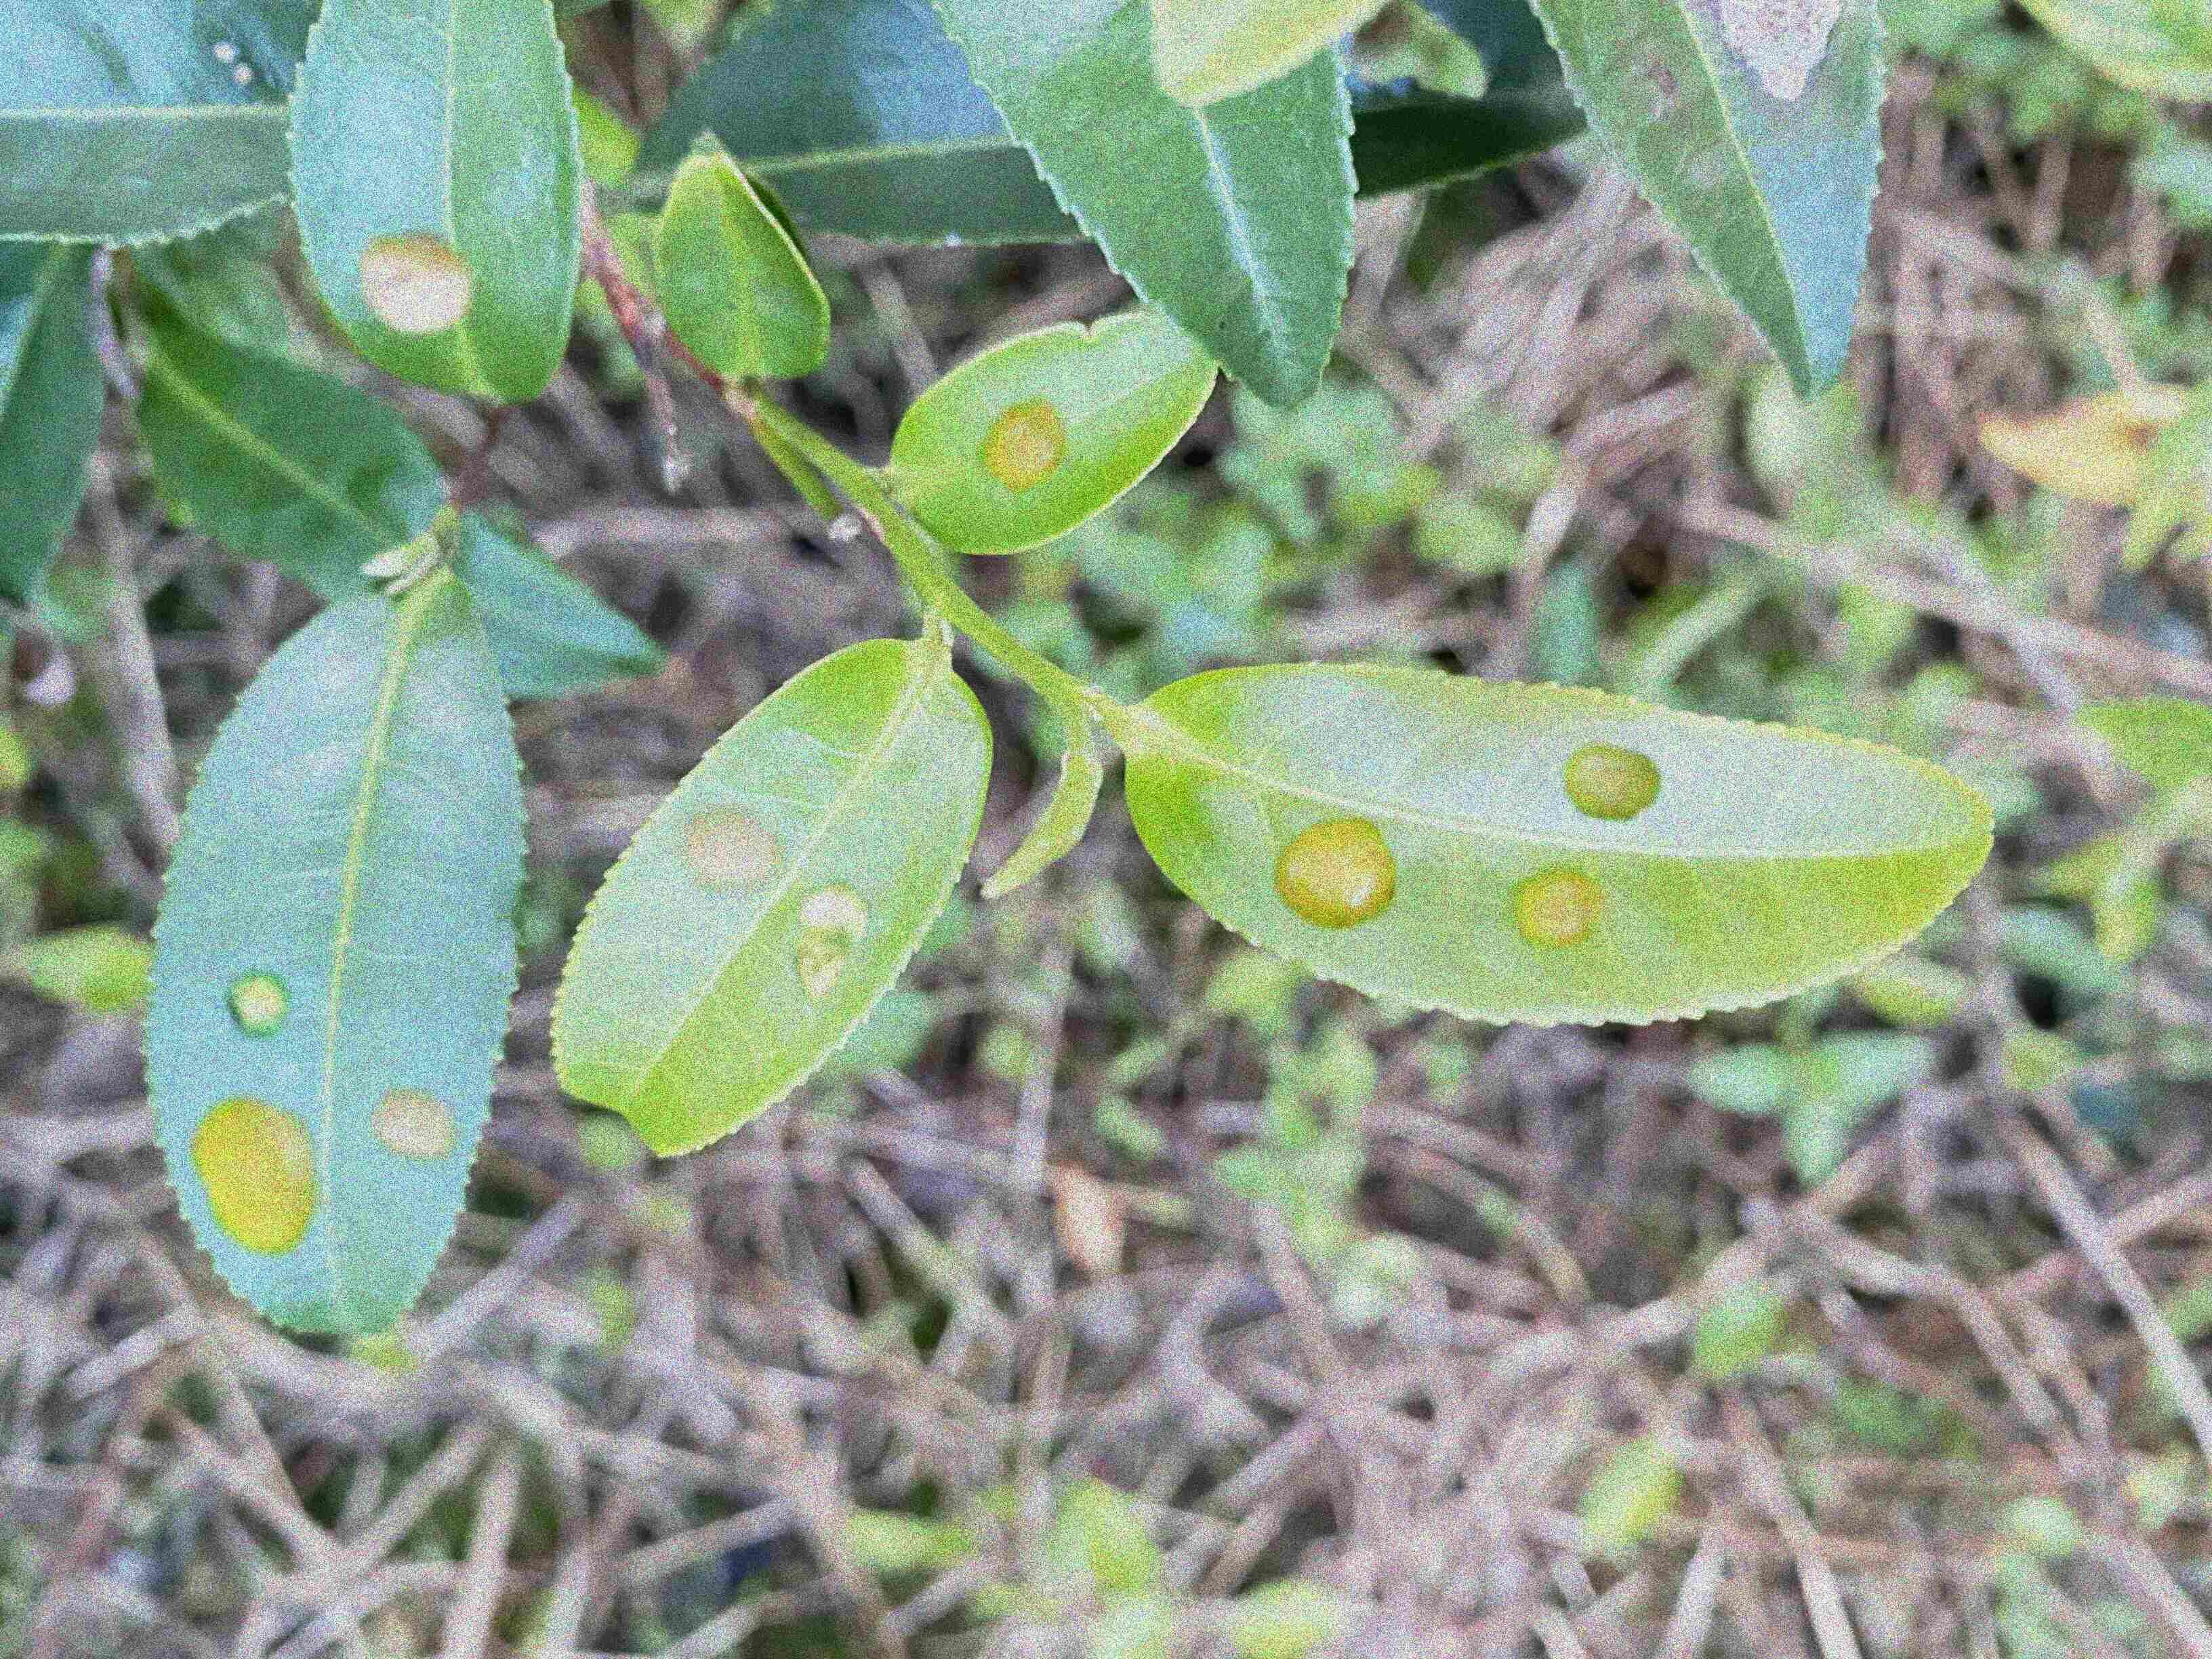chabing_high: (1123, 659, 1998, 1030), (136, 579, 531, 1337), (547, 638, 995, 1161)
chabing_low: (287, 0, 583, 403), (890, 312, 1221, 558)
healthy: (930, 7, 1360, 406)
tanju_high: (1527, 0, 1892, 404)
